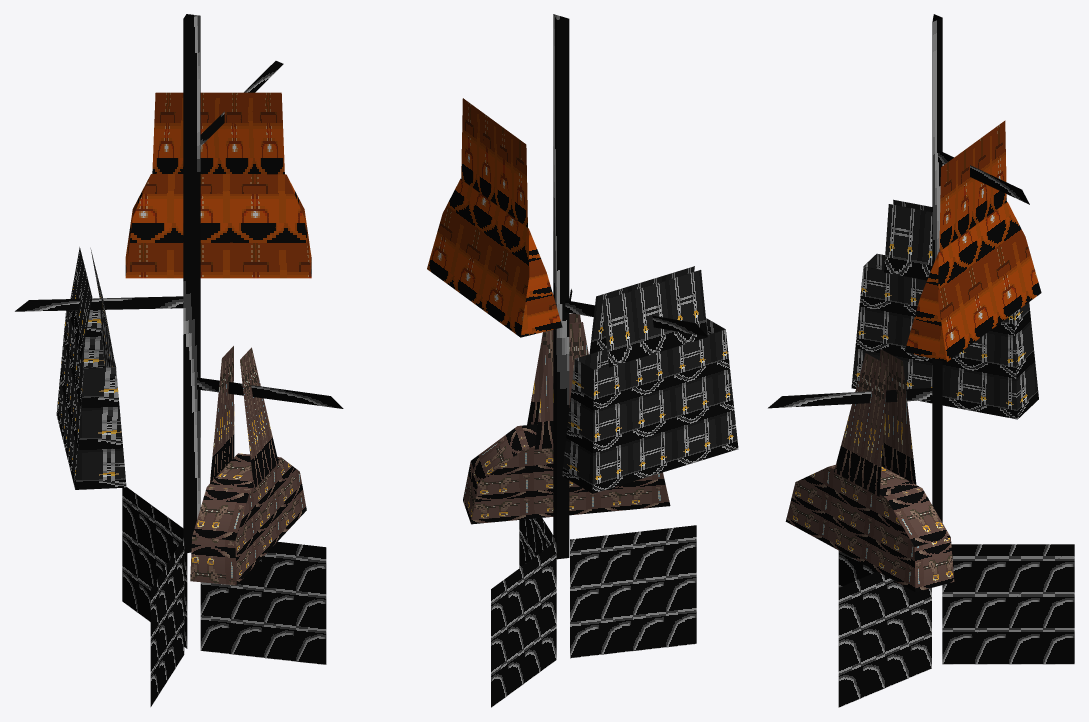
File: 3887kg3_shp09.gltf
3 renders of one model, left to right at view 1: azimuth 30°, elevation 25°; view 2: azimuth 150°, elevation 25°; view 3: azimuth 270°, elevation 25°, orthographic.
Visible parts, largest first — view 1: 3887kg3_shp09; view 2: 3887kg3_shp09; view 3: 3887kg3_shp09.
Part boxes in pixels (bbox=[...]): 3887kg3_shp09: bbox=[15, 14, 343, 707]; 3887kg3_shp09: bbox=[427, 14, 738, 707]; 3887kg3_shp09: bbox=[768, 14, 1074, 707].
Size of the model in its own units: 0.9128 by 1.84 by 0.7927.
Materials: 4 (4 with a texture image).
